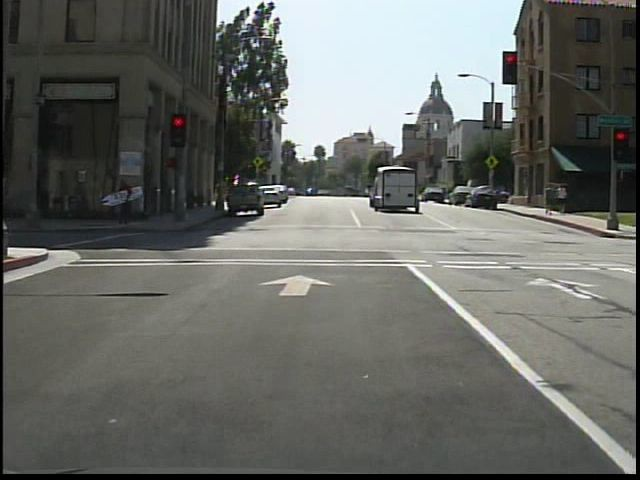person: (113, 176, 143, 227), (554, 183, 570, 216), (544, 185, 559, 219)
